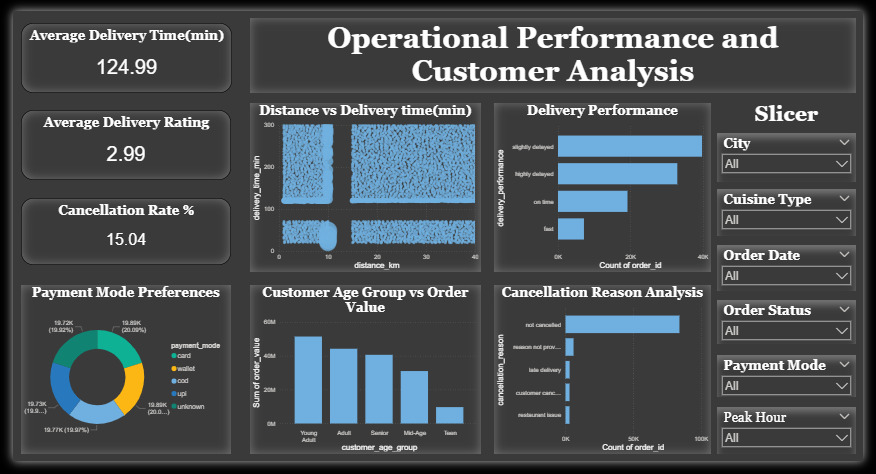

The page's visual inventory and layout, read from the dashboard file:
{"tool":"powerbi","page":{"name":"Performance Analysis","canvas":[1700,900],"ordinal":1},"visuals":[{"type":"barChart","title":"Delivery Performance","fields":{"Category":["online_food_cleaned.delivery_performance"],"Y":["CountNonNull(online_food_cleaned.order_id)"]},"box":[962,184,434,338],"z":0},{"type":"scatterChart","title":"Distance vs Delivery time(min)","fields":{"X":["online_food_cleaned.distance_km"],"Y":["online_food_cleaned.delivery_time_min"],"Size":["Count(online_food_cleaned.order_id)"]},"box":[474,184,462,338],"z":1},{"type":"barChart","title":"Cancellation Reason Analysis","fields":{"Category":["online_food_cleaned.cancellation_reason"],"Y":["CountNonNull(online_food_cleaned.order_id)"]},"box":[962,548,434,338],"z":2},{"type":"columnChart","title":"Customer Age Group vs Order Value","fields":{"Category":["online_food_cleaned.customer_age_group"],"Y":["Sum(online_food_cleaned.order_value)"]},"box":[474,548,462,338],"z":3},{"type":"donutChart","title":"Payment Mode Preferences","fields":{"Category":["online_food_cleaned.payment_mode"],"Y":["CountNonNull(online_food_cleaned.order_id)"]},"box":[16,548,420,338],"z":4},{"type":"card","title":"Average Delivery Time(min)","fields":{"Values":["Avg(online_food_cleaned.delivery_time_min)"]},"box":[16,24,422,140],"z":6},{"type":"card","title":"Average Delivery Rating","fields":{"Values":["Avg(online_food_cleaned.delivery_rating)"]},"box":[16,198,420,140],"z":7},{"type":"card","title":"Cancellation Rate %","fields":{"Values":["online_food_cleaned.Cancellation Rate"]},"box":[16,374,420,134],"z":8},{"type":"slicer","fields":{"Values":["online_food_cleaned.city"]},"box":[1408,244,278,98],"z":9},{"type":"slicer","fields":{"Values":["online_food_cleaned.cuisine_type"]},"box":[1408,356,278,94],"z":10},{"type":"slicer","fields":{"Values":["online_food_cleaned.order_date"]},"box":[1408,468,278,92],"z":11},{"type":"slicer","fields":{"Values":["online_food_cleaned.order_status"]},"box":[1408,578,278,88],"z":12},{"type":"slicer","fields":{"Values":["online_food_cleaned.payment_mode"]},"box":[1408,688,278,84],"z":13},{"type":"slicer","fields":{"Values":["online_food_cleaned.peak_hour"]},"box":[1408,792,278,94],"z":14},{"type":"textbox","box":[474,14,1212,150],"z":15},{"type":"textbox","box":[1408,176,278,66],"z":16}]}

Visuals, with their boxes in screenshot pixels (x1, y1, x2, y2), scaled from the page's 1700x900 canvas onto the 876x474 screenshot:
"Delivery Performance" barChart: [left=496, top=97, right=719, bottom=275]
"Distance vs Delivery time(min)" scatterChart: [left=244, top=97, right=482, bottom=275]
"Cancellation Reason Analysis" barChart: [left=496, top=289, right=719, bottom=467]
"Customer Age Group vs Order Value" columnChart: [left=244, top=289, right=482, bottom=467]
"Payment Mode Preferences" donutChart: [left=8, top=289, right=225, bottom=467]
"Average Delivery Time(min)" card: [left=8, top=13, right=226, bottom=86]
"Average Delivery Rating" card: [left=8, top=104, right=225, bottom=178]
"Cancellation Rate %" card: [left=8, top=197, right=225, bottom=268]
slicer - online_food_cleaned.city: [left=726, top=129, right=869, bottom=180]
slicer - online_food_cleaned.cuisine_type: [left=726, top=187, right=869, bottom=237]
slicer - online_food_cleaned.order_date: [left=726, top=246, right=869, bottom=295]
slicer - online_food_cleaned.order_status: [left=726, top=304, right=869, bottom=351]
slicer - online_food_cleaned.payment_mode: [left=726, top=362, right=869, bottom=407]
slicer - online_food_cleaned.peak_hour: [left=726, top=417, right=869, bottom=467]
textbox: [left=244, top=7, right=869, bottom=86]
textbox: [left=726, top=93, right=869, bottom=127]
